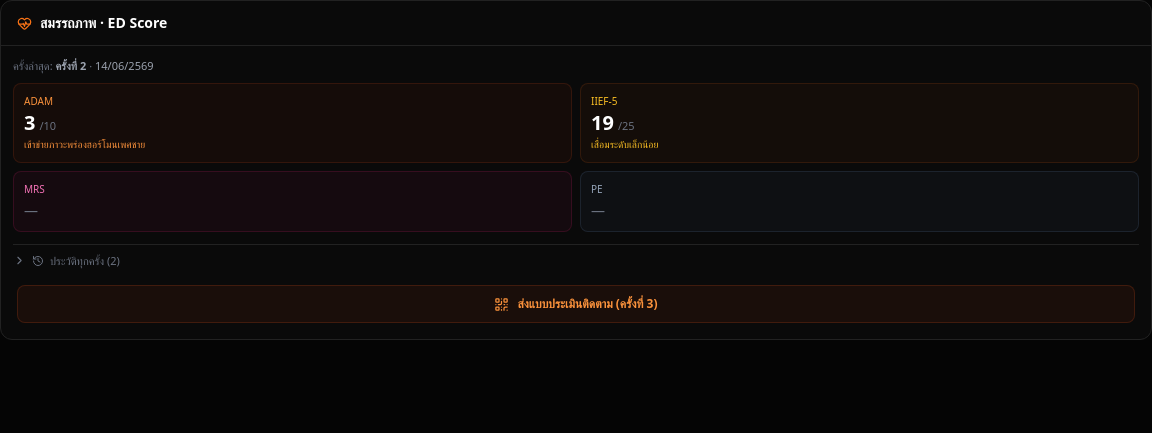
Scenario: EDScoreBox › history expands → followup deletable, intake NOT
This screenshot has width=1152, height=433.
Click the button with test id "ed-history-toggle" at {"x": 80, "y": 260}, box [13,244,1139,269]
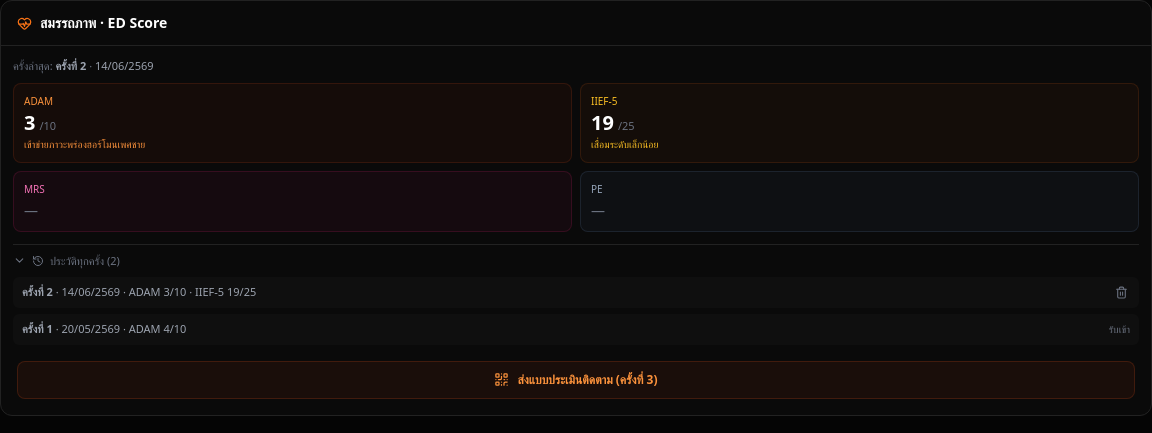
Expected: the button with test id "ed-history-A" is shown, [13,277,1139,308]
Expected: the button with test id "ed-history-__intake__" is shown, [13,314,1139,344]
Expected: the button with test id "ed-delete-A" is shown, [1111,282,1132,303]
